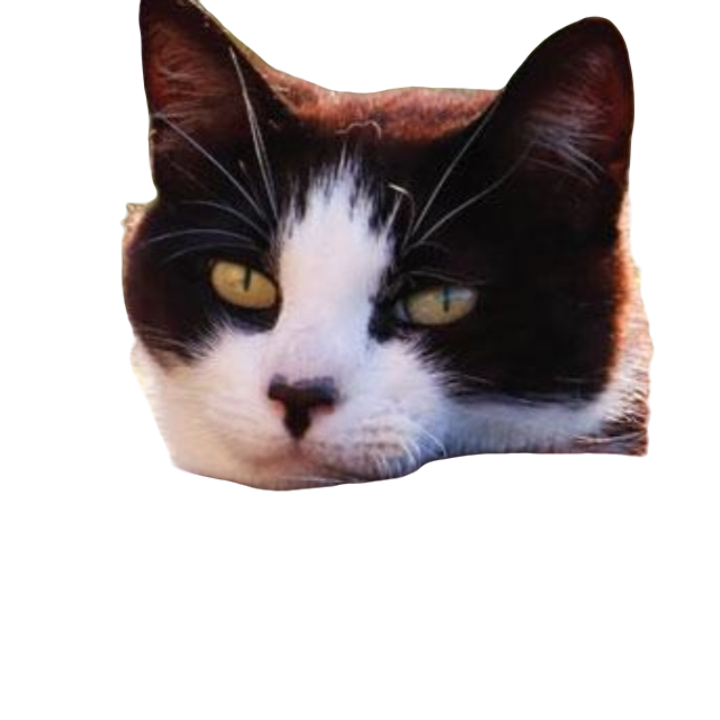Cat: (110, 0, 659, 493)
